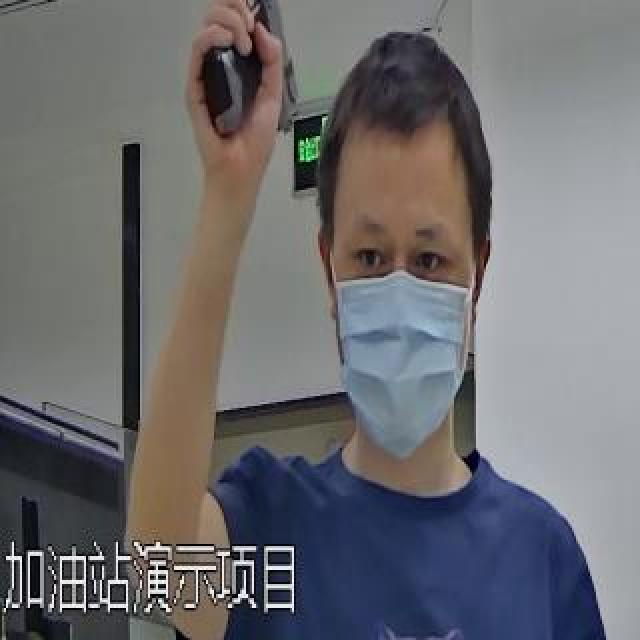Guns: (184, 0, 314, 142)
